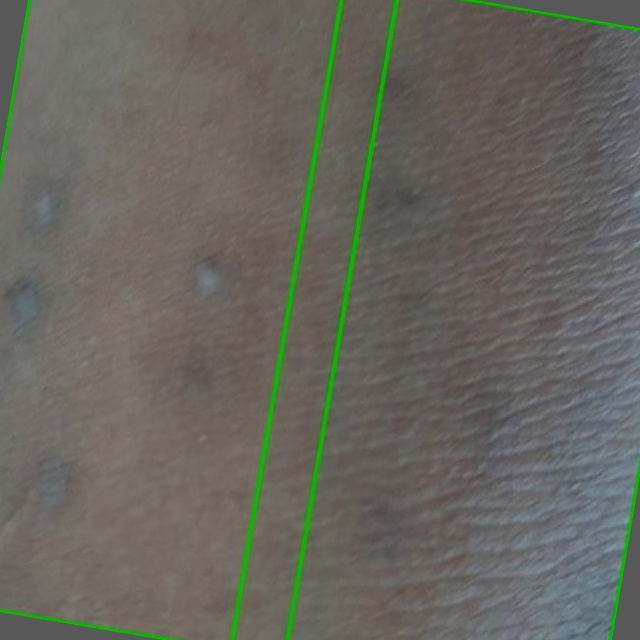Scabies: (232, 0, 639, 639), (0, 0, 396, 639)
